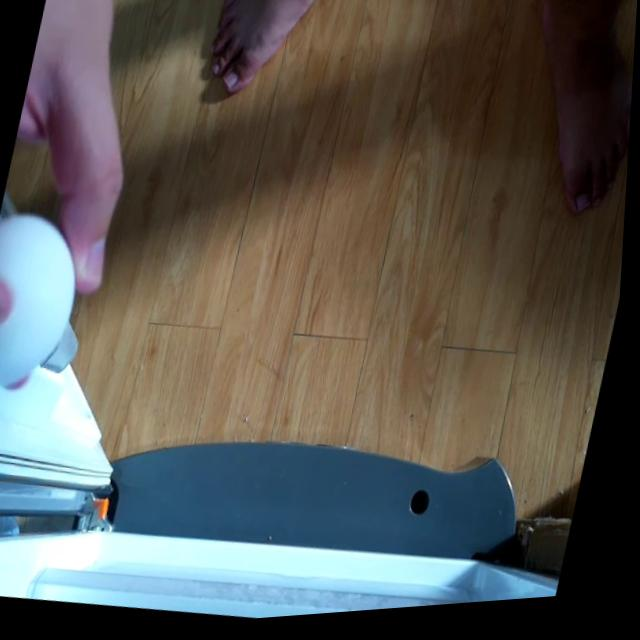egg: (0, 205, 92, 397)
